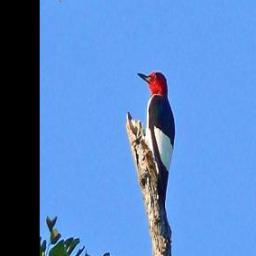Woodpecker: (132, 59, 185, 238)
